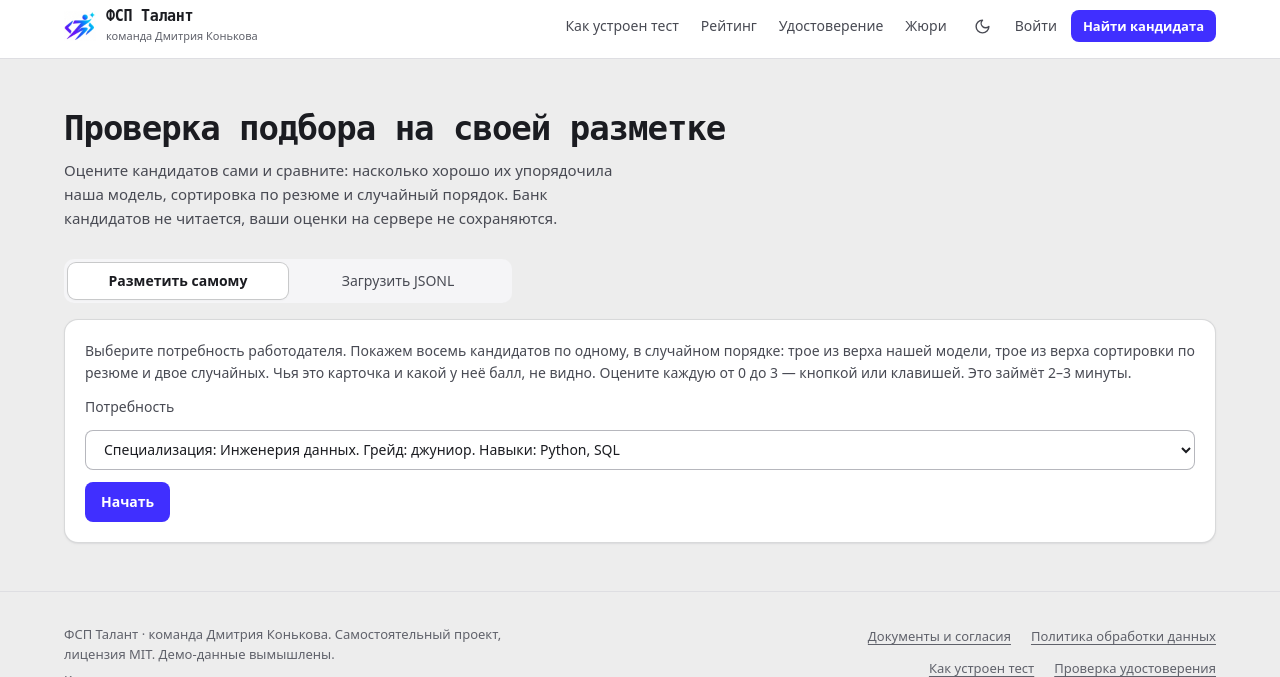
подбор на своей разметке › показывает причину отказа
Click the tab "Загрузить JSONL" at (398, 281), box [288,263,508,299]
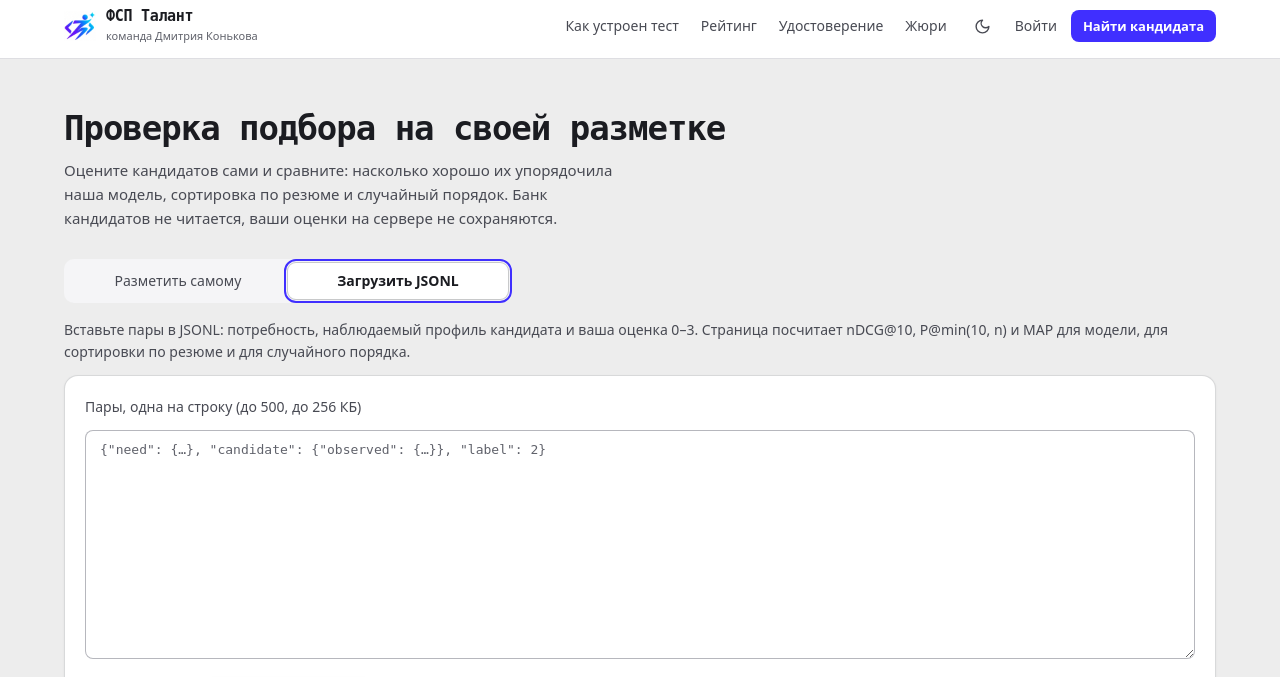
Type "oops" into the text box labelled "Пары, одна на строку (до 500, до 256 КБ)" at (640, 544), box [85,430,1195,659]
(page scrolled)
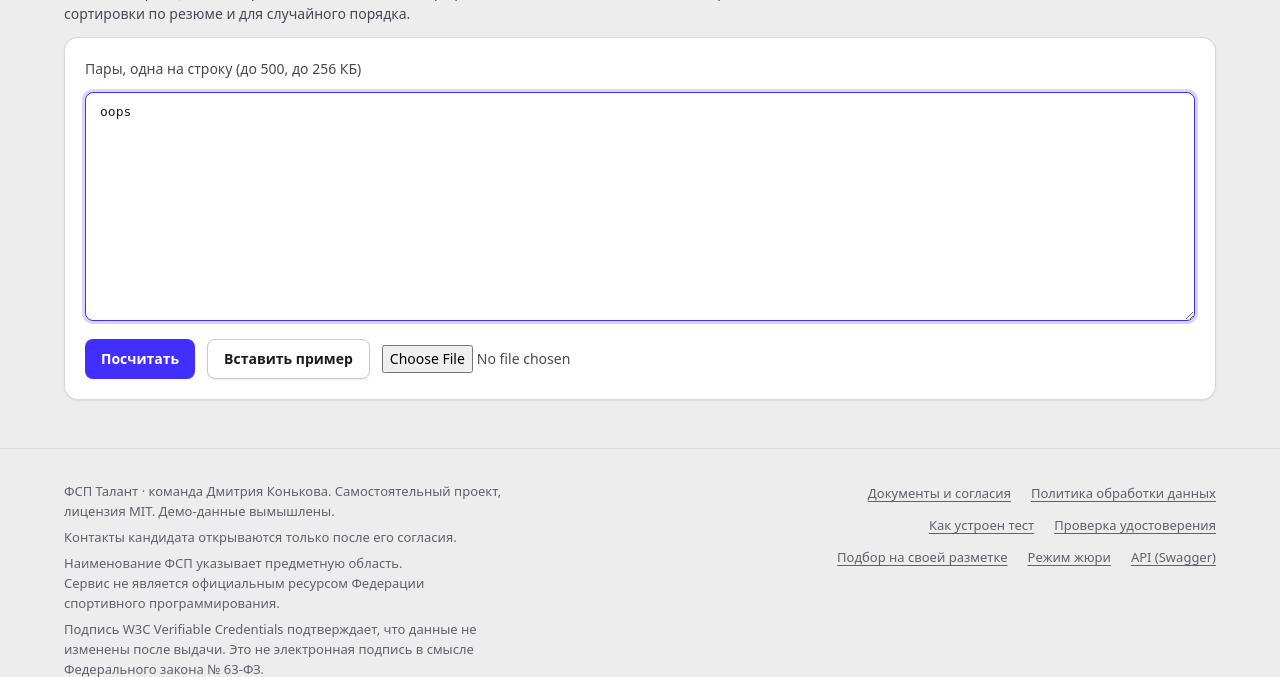
Click the button "Посчитать" at (140, 359), box [85,339,195,379]
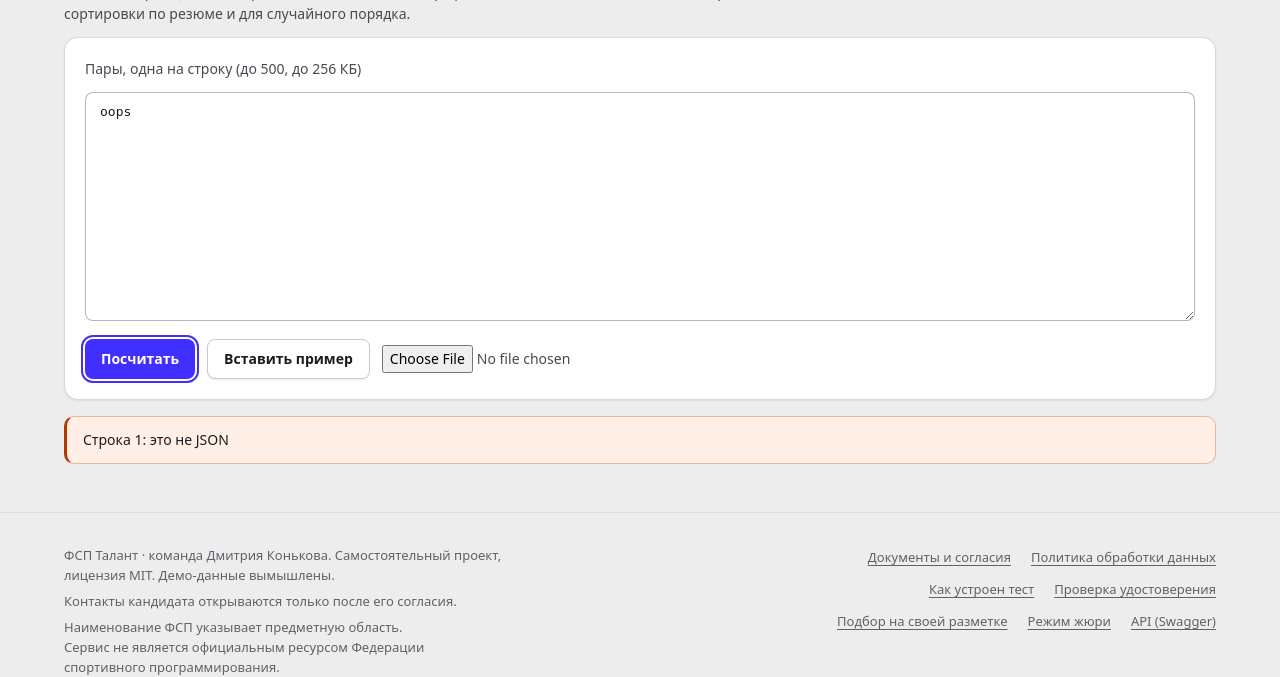
Expected: the message reads "Строка 1: это не JSON", [83,430,229,449]
